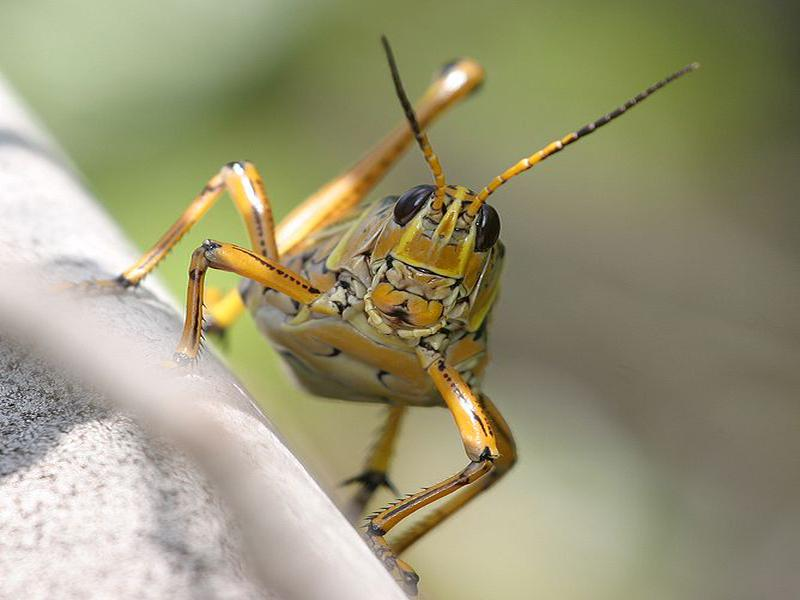Grasshopper: (116, 133, 595, 500)
